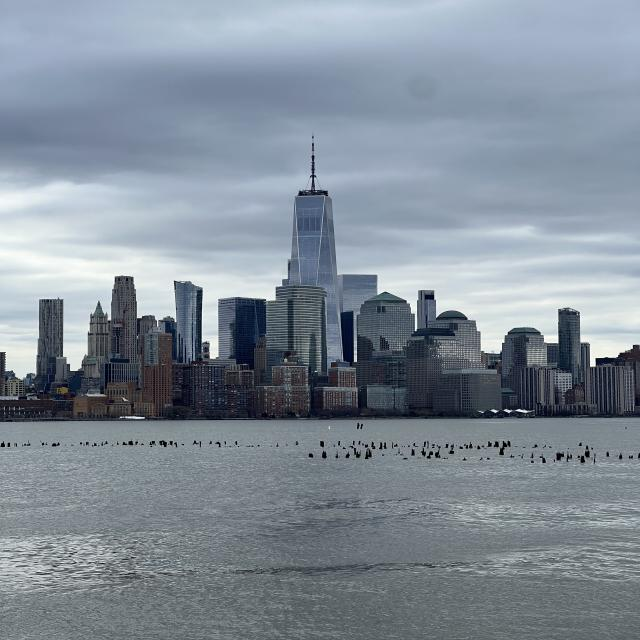WTC: (289, 133, 337, 293)
